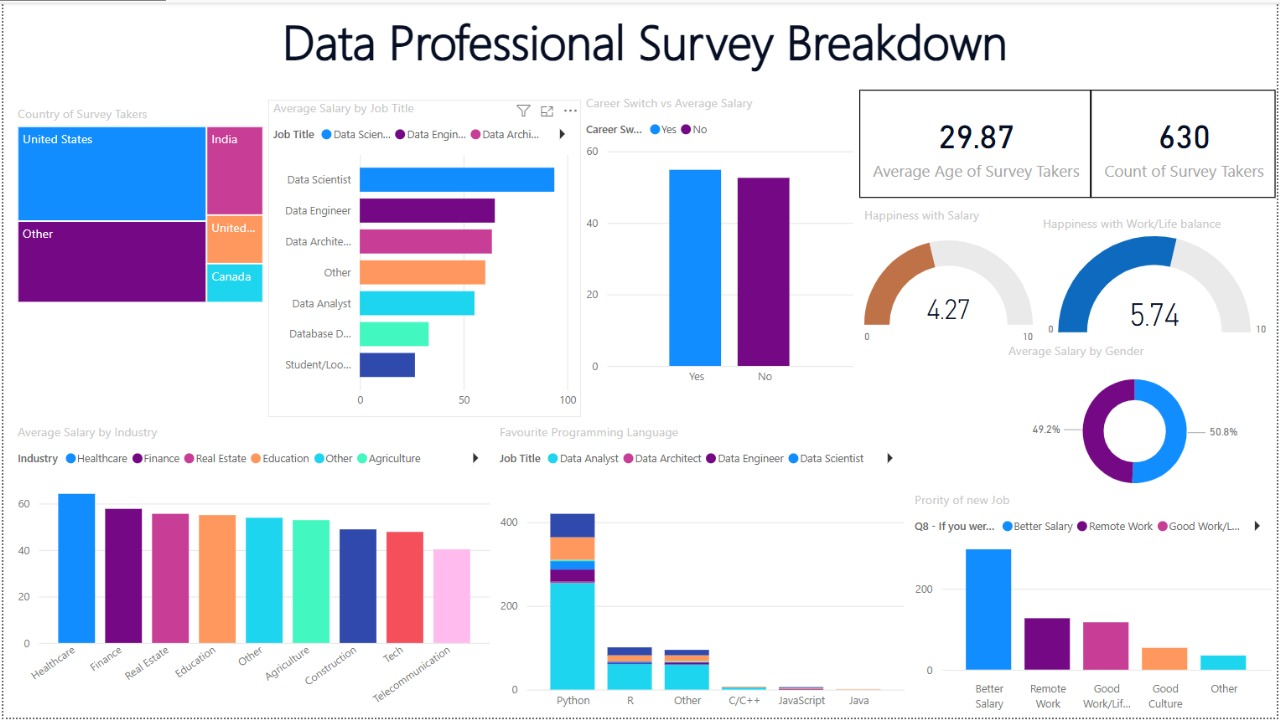

Layout of this report page (visuals, bound fields, positions):
{"tool":"powerbi","page":{"name":"Page 1","canvas":[1280,720],"ordinal":0},"visuals":[{"type":"textbox","box":[9.7,0,1270.3,87.5],"z":0},{"type":"card","fields":{"Values":["CountNonNull(Data Professional Survey.Q8 - If you were to look for a new job today, what would be the most important t)"]},"box":[1093.8,87.8,186.2,109.2],"z":1000},{"type":"card","fields":{"Values":["Avg(Data Professional Survey.Q10 - Current Age)"]},"box":[860.5,87.8,233.3,109.2],"z":2000},{"type":"barChart","title":"Average Salary by Job Title","fields":{"Category":["Data Professional Survey.Q1 - Which Title Best Fits your Current Role?.1"],"Y":["Avg(Data Professional Survey.Average Salary)"],"Series":["Data Professional Survey.Q1 - Which Title Best Fits your Current Role?.1"]},"box":[266.5,97.4,314.6,320],"z":3000},{"type":"columnChart","title":"Favourite Programming Language","fields":{"Category":["Data Professional Survey.Q5 - Favorite Programming Language.1"],"Y":["CountNonNull(Data Professional Survey.Q9 - Male/Female?)"],"Series":["Data Professional Survey.Q1 - Which Title Best Fits your Current Role?.1"]},"box":[494.4,423.8,417.4,296.5],"z":4000},{"type":"treemap","title":"Country of Survey Takers","fields":{"Group":["Data Professional Survey.Q11 - Which Country do you live in?.1"],"Values":["CountNonNull(Data Professional Survey.Q9 - Male/Female?)"]},"box":[9.6,103.8,256.9,203.3],"z":5000},{"type":"gauge","title":"Happiness with Work/Life balance","fields":{"Y":["Avg(Data Professional Survey.Q6 - How Happy are you in your Current Position with the following? (Work/Life Balance))"],"MinValue":["Min(Data Professional Survey.Q6 - How Happy are you in your Current Position with the following? (Work/Life Balance))"],"MaxValue":["Max(Data Professional Survey.Q6 - How Happy are you in your Current Position with the following? (Work/Life Balance))1"]},"box":[1040.3,214.4,239.7,127.8],"z":6000},{"type":"gauge","title":"Happiness with Salary","fields":{"Y":["Avg(Data Professional Survey.Q6 - How Happy are you in your Current Position with the following? (Salary))"],"MinValue":["Min(Data Professional Survey.Q6 - How Happy are you in your Current Position with the following? (Salary))"],"MaxValue":["Max(Data Professional Survey.Q6 - How Happy are you in your Current Position with the following? (Salary))1"]},"box":[860.7,205.9,179.5,157.4],"z":7000},{"type":"donutChart","fields":{"Category":["Data Professional Survey.Q9 - Male/Female?"],"Y":["Avg(Data Professional Survey.Average Salary)"]},"box":[1005.4,342.2,264,162.6],"z":8000},{"type":"columnChart","title":"Career Switch vs Average Salary","fields":{"Category":["Data Professional Survey.Q2 - Did you switch careers into Data?"],"Y":["Avg(Data Professional Survey.Average Salary)"],"Series":["Data Professional Survey.Q2 - Did you switch careers into Data?"]},"box":[581.1,93.1,279.3,301.8],"z":9000},{"type":"columnChart","title":"Average Salary by Industry","fields":{"Category":["Data Professional Survey.Q4 - What Industry do you work in?.1"],"Y":["Avg(Data Professional Survey.Average Salary)"],"Series":["Data Professional Survey.Q4 - What Industry do you work in?.1"]},"box":[9.6,423.8,484.8,296.5],"z":10000},{"type":"columnChart","fields":{"Category":["Data Professional Survey.Q8 - If you were to look for a new job today, what would be the most important t"],"Y":["CountNonNull(Data Professional Survey.Q9 - Male/Female?)"],"Series":["Data Professional Survey.Q8 - If you were to look for a new job today, what would be the most important t"]},"box":[911.4,492.1,368.6,228.1],"z":10001}]}

Visuals, with their boxes in screenshot pixels (x1, y1, x2, y2), scaled from the page's 1280x720 canvas onto the 1280x720 screenshot:
textbox: crop(10, 0, 1279, 88)
card - CountNonNull(Data Professional Survey.Q8 - If you were to look for a new job today, what would be the most important t): crop(1094, 88, 1279, 197)
card - Avg(Data Professional Survey.Q10 - Current Age): crop(860, 88, 1094, 197)
"Average Salary by Job Title" barChart: crop(266, 97, 581, 417)
"Favourite Programming Language" columnChart: crop(494, 424, 912, 719)
"Country of Survey Takers" treemap: crop(10, 104, 266, 307)
"Happiness with Work/Life balance" gauge: crop(1040, 214, 1279, 342)
"Happiness with Salary" gauge: crop(861, 206, 1040, 363)
donutChart - Data Professional Survey.Q9 - Male/Female? x Avg(Data Professional Survey.Average Salary): crop(1005, 342, 1269, 505)
"Career Switch vs Average Salary" columnChart: crop(581, 93, 860, 395)
"Average Salary by Industry" columnChart: crop(10, 424, 494, 719)
columnChart - Data Professional Survey.Q8 - If you were to look for a new job today, what would be the most important t x CountNonNull(Data Professional Survey.Q9 - Male/Female?): crop(911, 492, 1279, 719)
